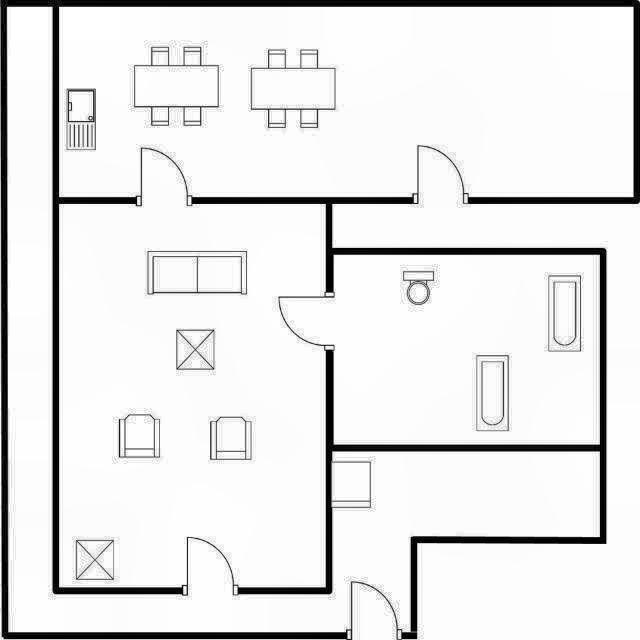room: (7, 7, 600, 632), (59, 7, 634, 197), (59, 204, 326, 587), (333, 255, 600, 444)
